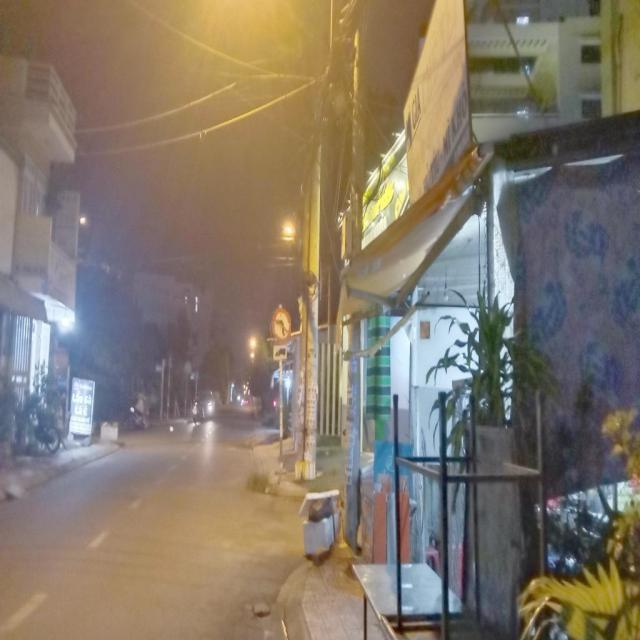123a-cam-re-trai: (270, 308, 292, 342)
